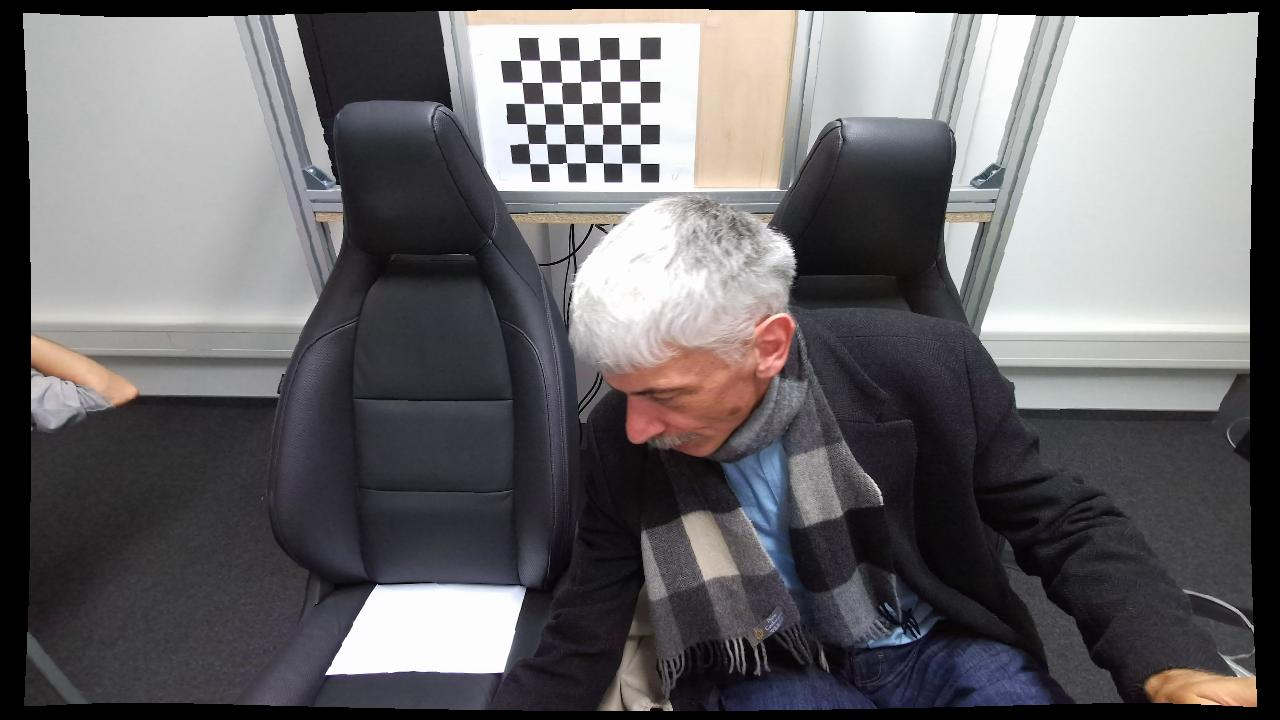Distracted: (491, 196, 1157, 706)
